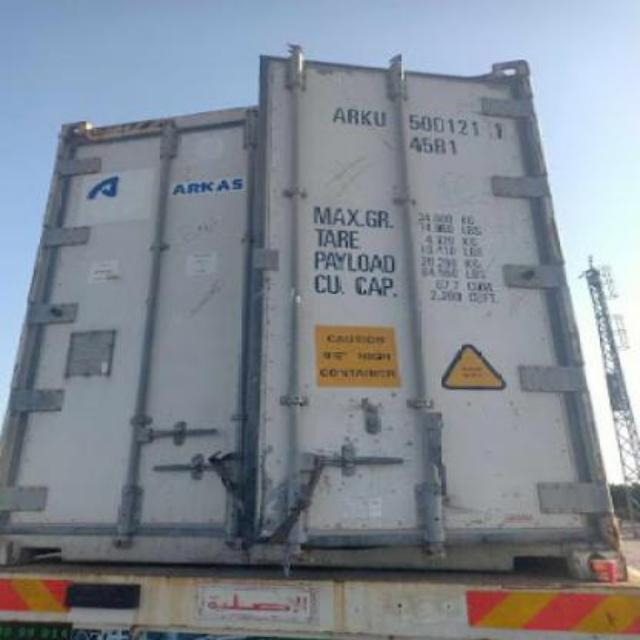0: (432, 116, 446, 134), (422, 114, 432, 132)
1: (446, 117, 458, 135), (470, 119, 482, 137), (490, 122, 502, 140)
2: (456, 117, 469, 137)
5: (408, 113, 422, 131)
A: (330, 106, 348, 124)
K: (361, 109, 374, 127)
R: (348, 108, 360, 124)
U: (372, 109, 388, 127)
